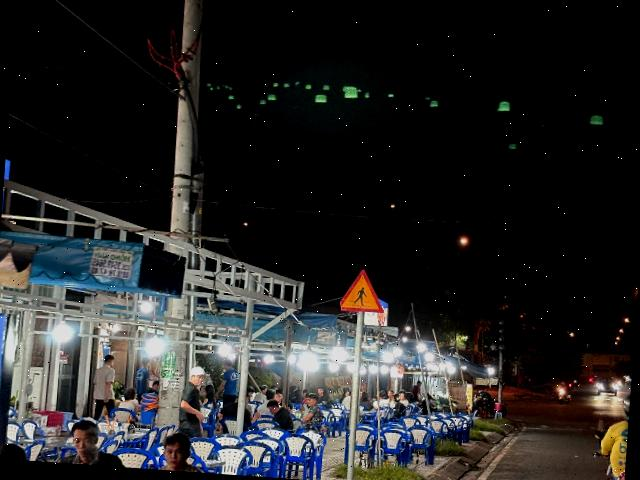duong-nguoi-di-bo-cat-ngang: (338, 267, 387, 313)
